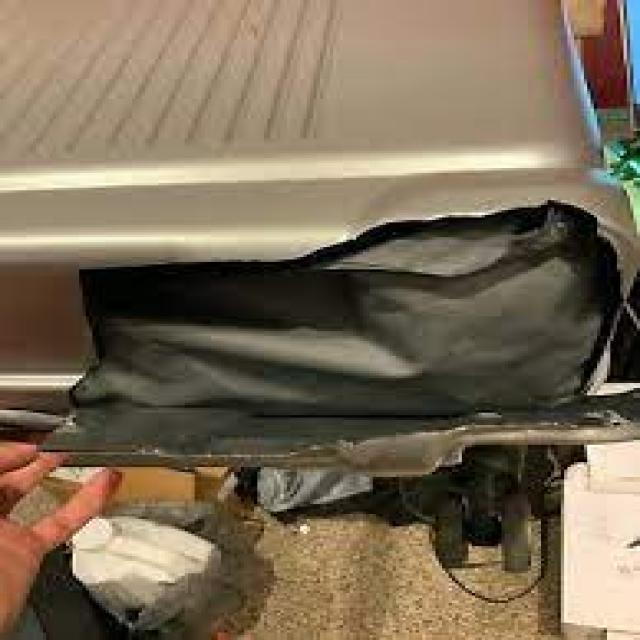Damage-bag: (48, 203, 637, 476)
